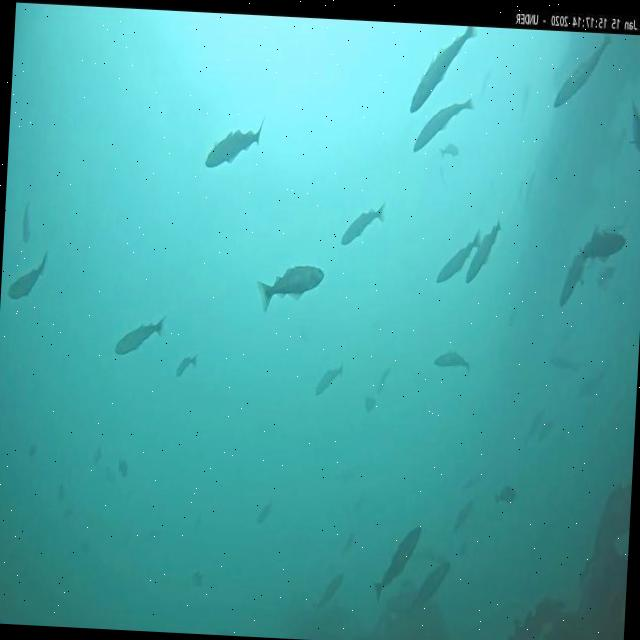fish: (410, 23, 480, 118), (553, 34, 611, 109), (372, 524, 421, 602), (412, 95, 474, 156), (260, 262, 326, 310), (208, 120, 264, 168), (438, 232, 479, 286), (7, 250, 48, 302), (341, 202, 385, 250), (468, 221, 498, 284), (114, 316, 162, 354), (560, 244, 586, 310), (582, 227, 626, 260), (418, 562, 450, 604), (314, 363, 343, 395), (450, 499, 473, 533), (433, 350, 470, 370), (320, 574, 343, 606), (580, 370, 606, 394), (175, 354, 197, 382), (629, 101, 640, 156), (550, 355, 577, 374), (492, 485, 518, 503), (528, 409, 545, 435), (20, 206, 30, 244), (258, 502, 272, 525), (536, 422, 552, 442), (191, 571, 205, 587), (119, 459, 129, 478)
